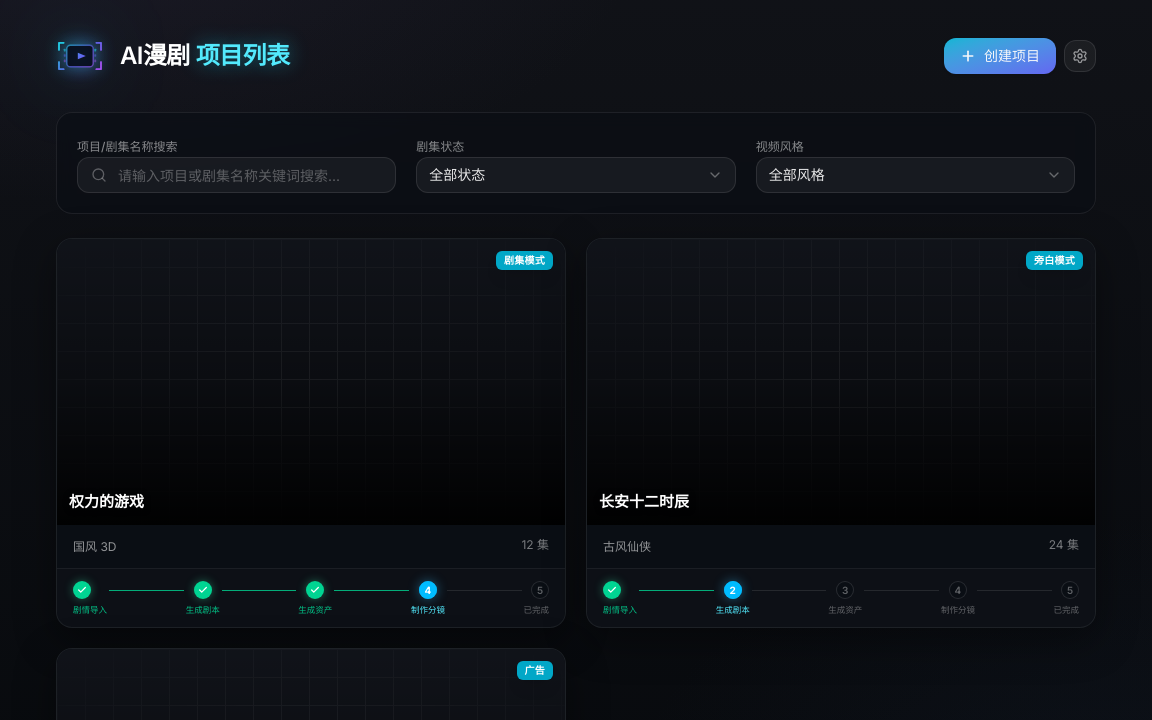
Test: WorkspaceV2Page › filters projects automatically when typing keyword
Check: the heading "权力的游戏" is shown, box [69,491,144,513]
Type "广告" into the search field with placeholder "请输入项目或剧集名称关键词搜索...". click: (237, 175)
box: [77,157,396,193]
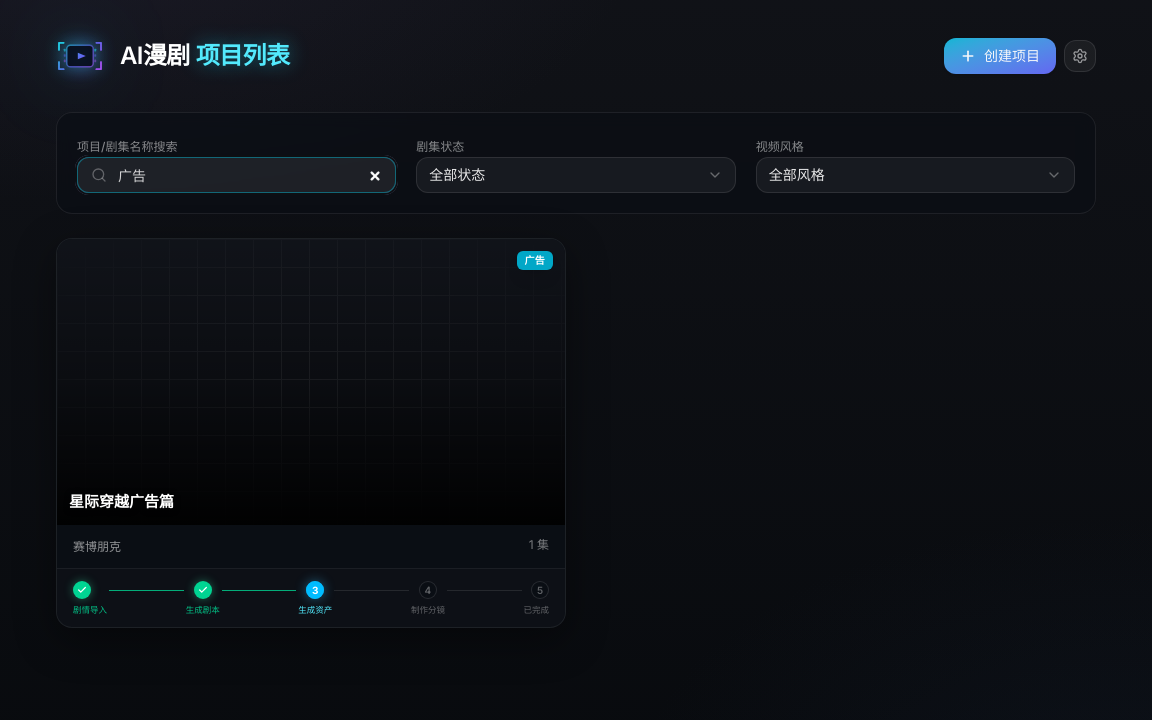
Check: the heading "星际穿越广告篇" is shown, box [69,491,174,513]
Check: the link "权力的游戏" is gone
